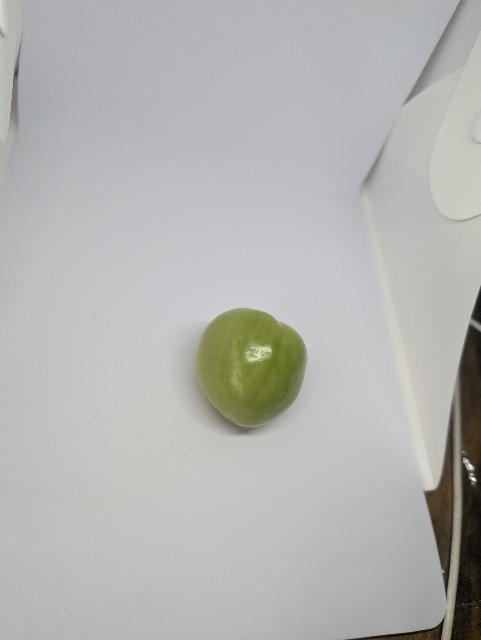green: (189, 304, 324, 431)
